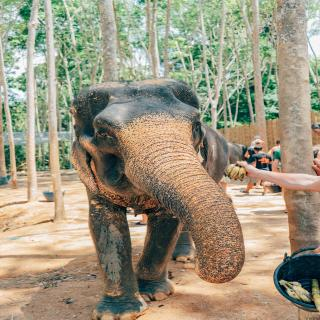Elephant: (71, 74, 260, 320)
